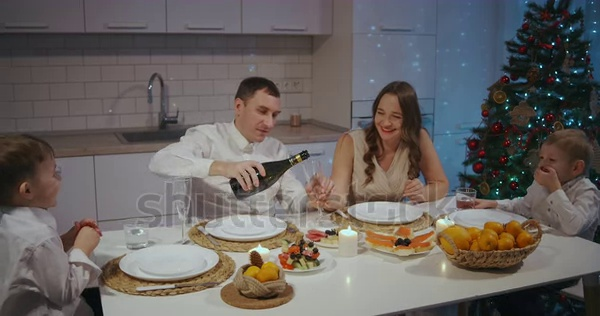No Mask: (3, 136, 65, 213), (235, 73, 286, 144), (532, 138, 596, 185), (366, 88, 415, 143)
